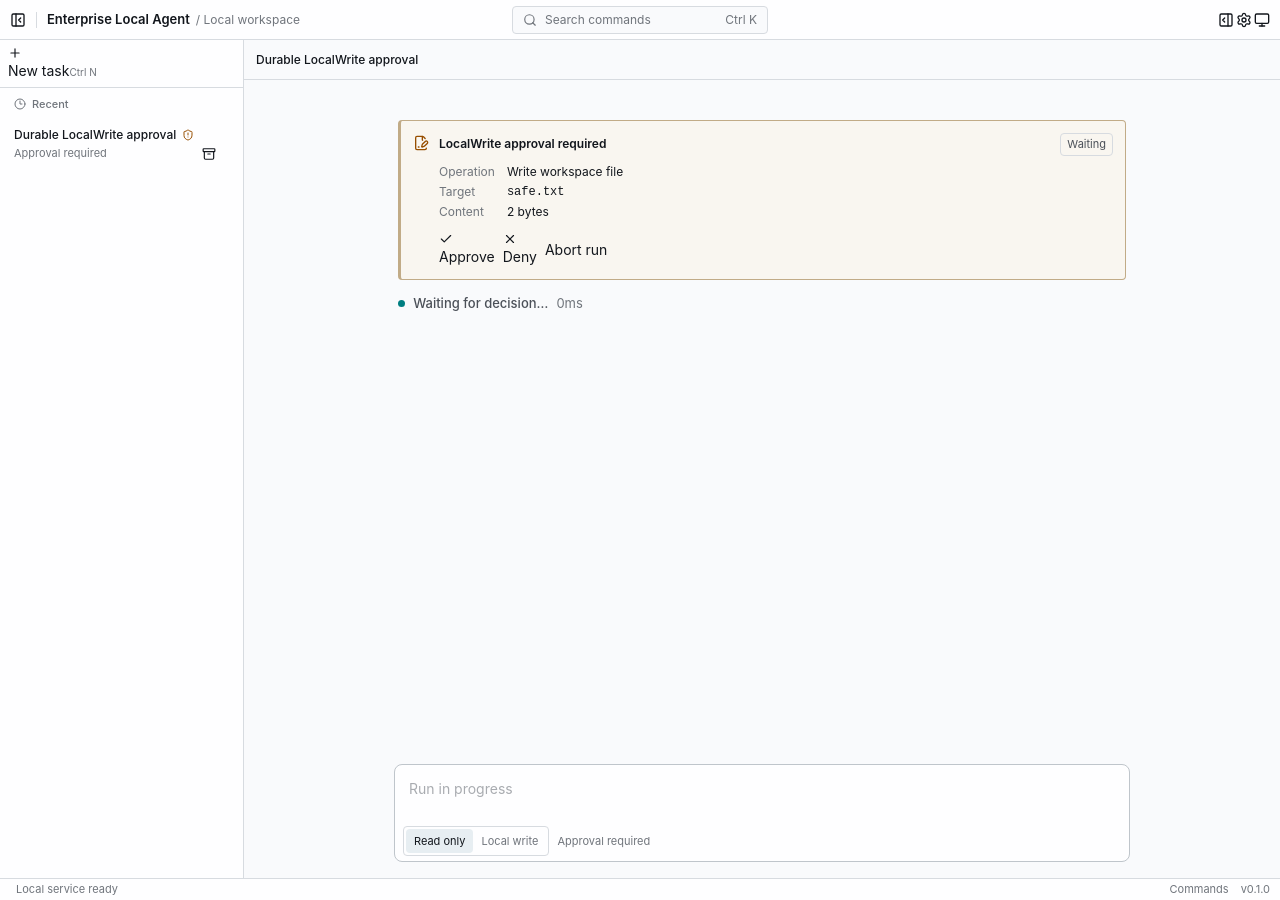
Test: App conversation › sanitizes approval state_conflict failures without exposing action data
Click the button "Approve".
click(467, 249)  # box x1=439 y1=232 x2=495 y2=266
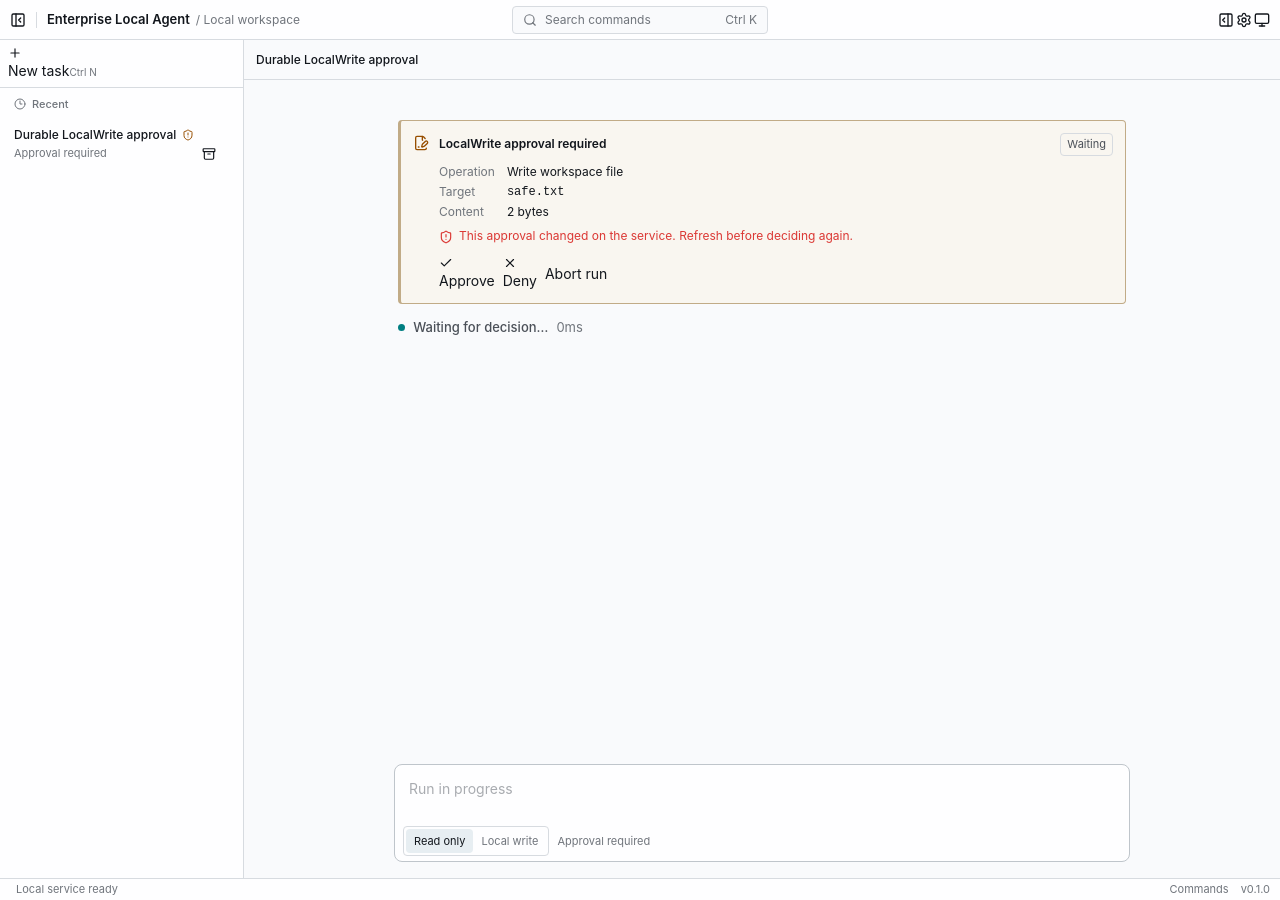
Now the message "This approval changed on the service. Refresh before deciding again." is shown, box x1=439 y1=228 x2=853 y2=244
